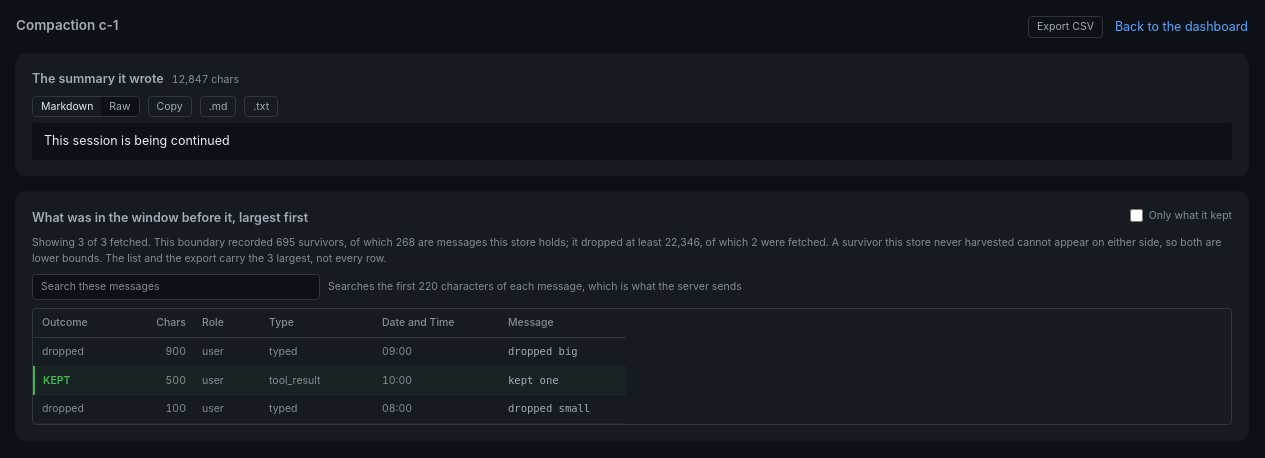
Test: a compaction, ordered by size with what survived marked › says nothing matches rather than looking empty
Expected: the text "recorded 695 survivors" is shown, top-left (32, 235), bottom-right (1232, 266)
Type "nothing here says this" into the search field named "Search the messages before this boundary" at (176,287), box top-left (32, 274), bottom-right (320, 300)
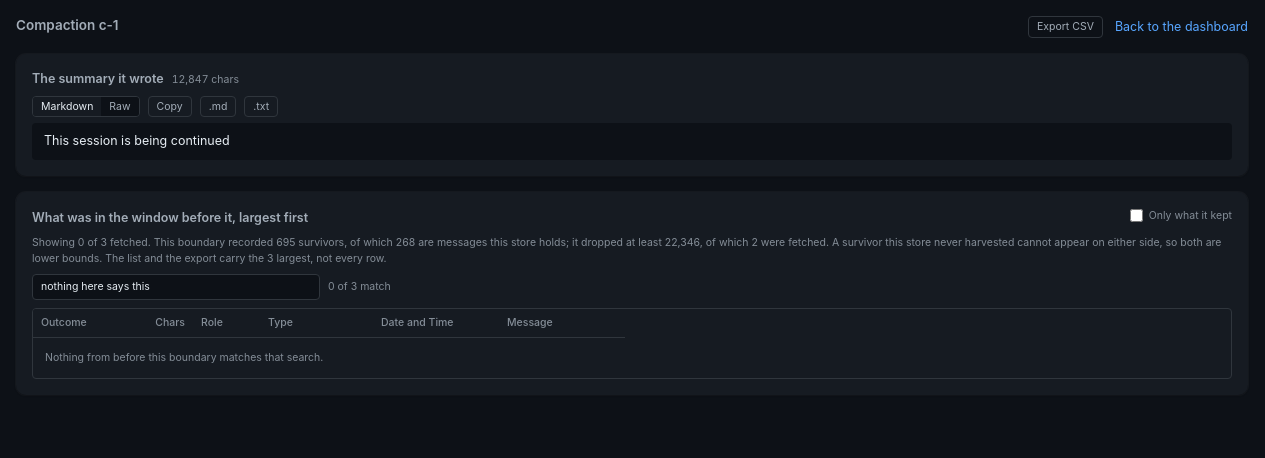
Now the text "Nothing from before this boundary matches that search." is shown, box top-left (33, 337), bottom-right (625, 378)
